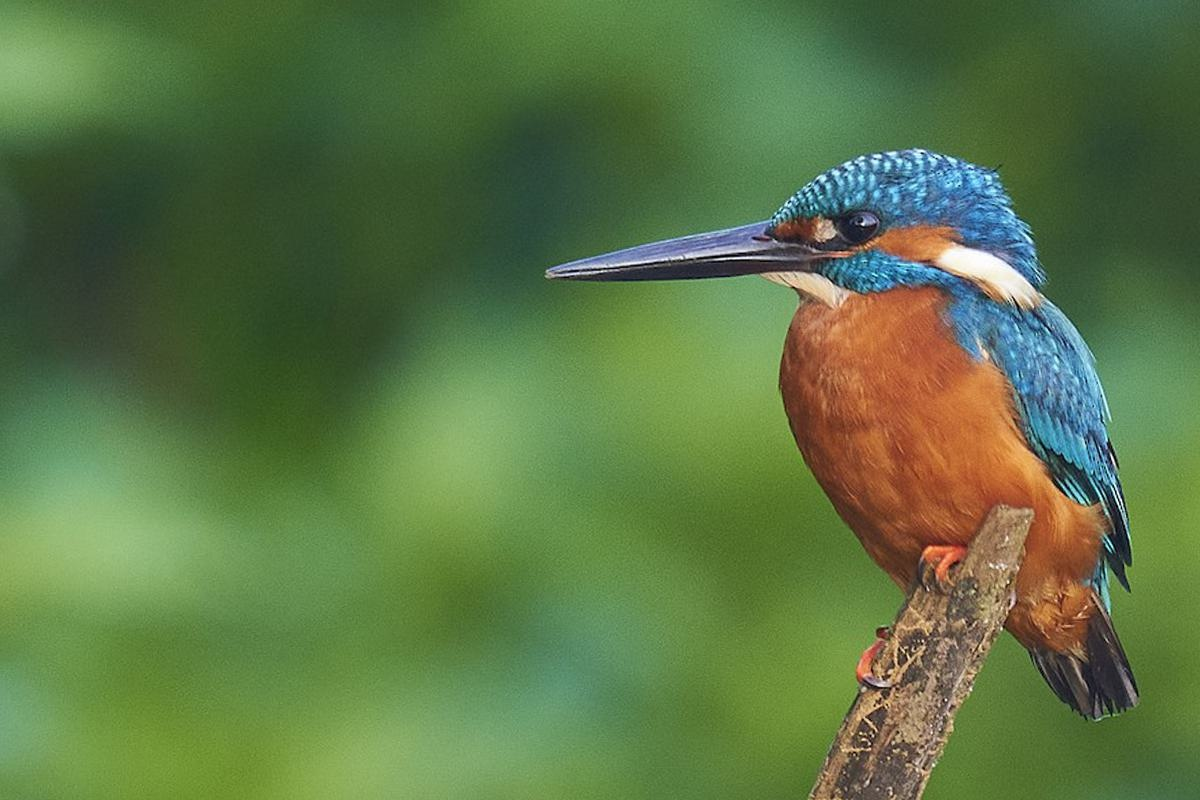kingfisher: (517, 122, 1186, 722)
